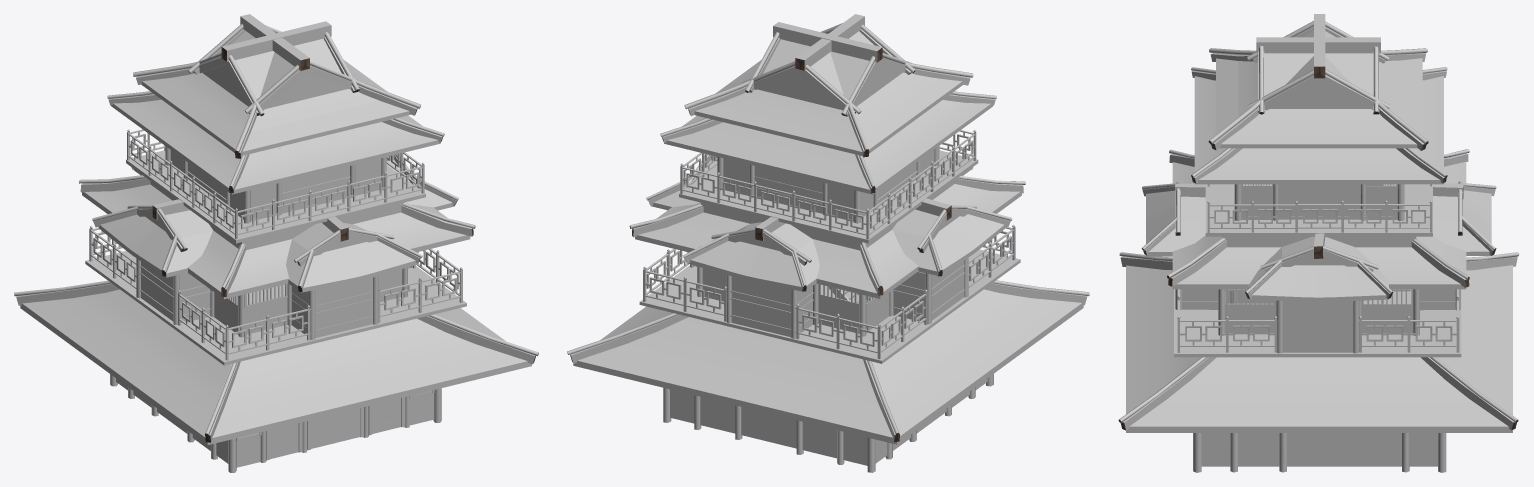
The model's file is building_10 lod1.fbx.
The picture shows the model from 3 angles, left to right: view 1: azimuth 30°, elevation 25°; view 2: azimuth 150°, elevation 25°; view 3: azimuth 270°, elevation 25°; orthographic projection. The views are drawn at different scales.
Parts seen in each view (by area): view 1: polySurface20485; view 2: polySurface20485; view 3: polySurface20485.
Boxes of the visible parts, bbox=[...] form: polySurface20485: bbox=[14, 14, 538, 472]; polySurface20485: bbox=[567, 14, 1089, 472]; polySurface20485: bbox=[1118, 14, 1519, 472].
Size of the model in its own units: 26.05 by 27.36 by 26.22.
